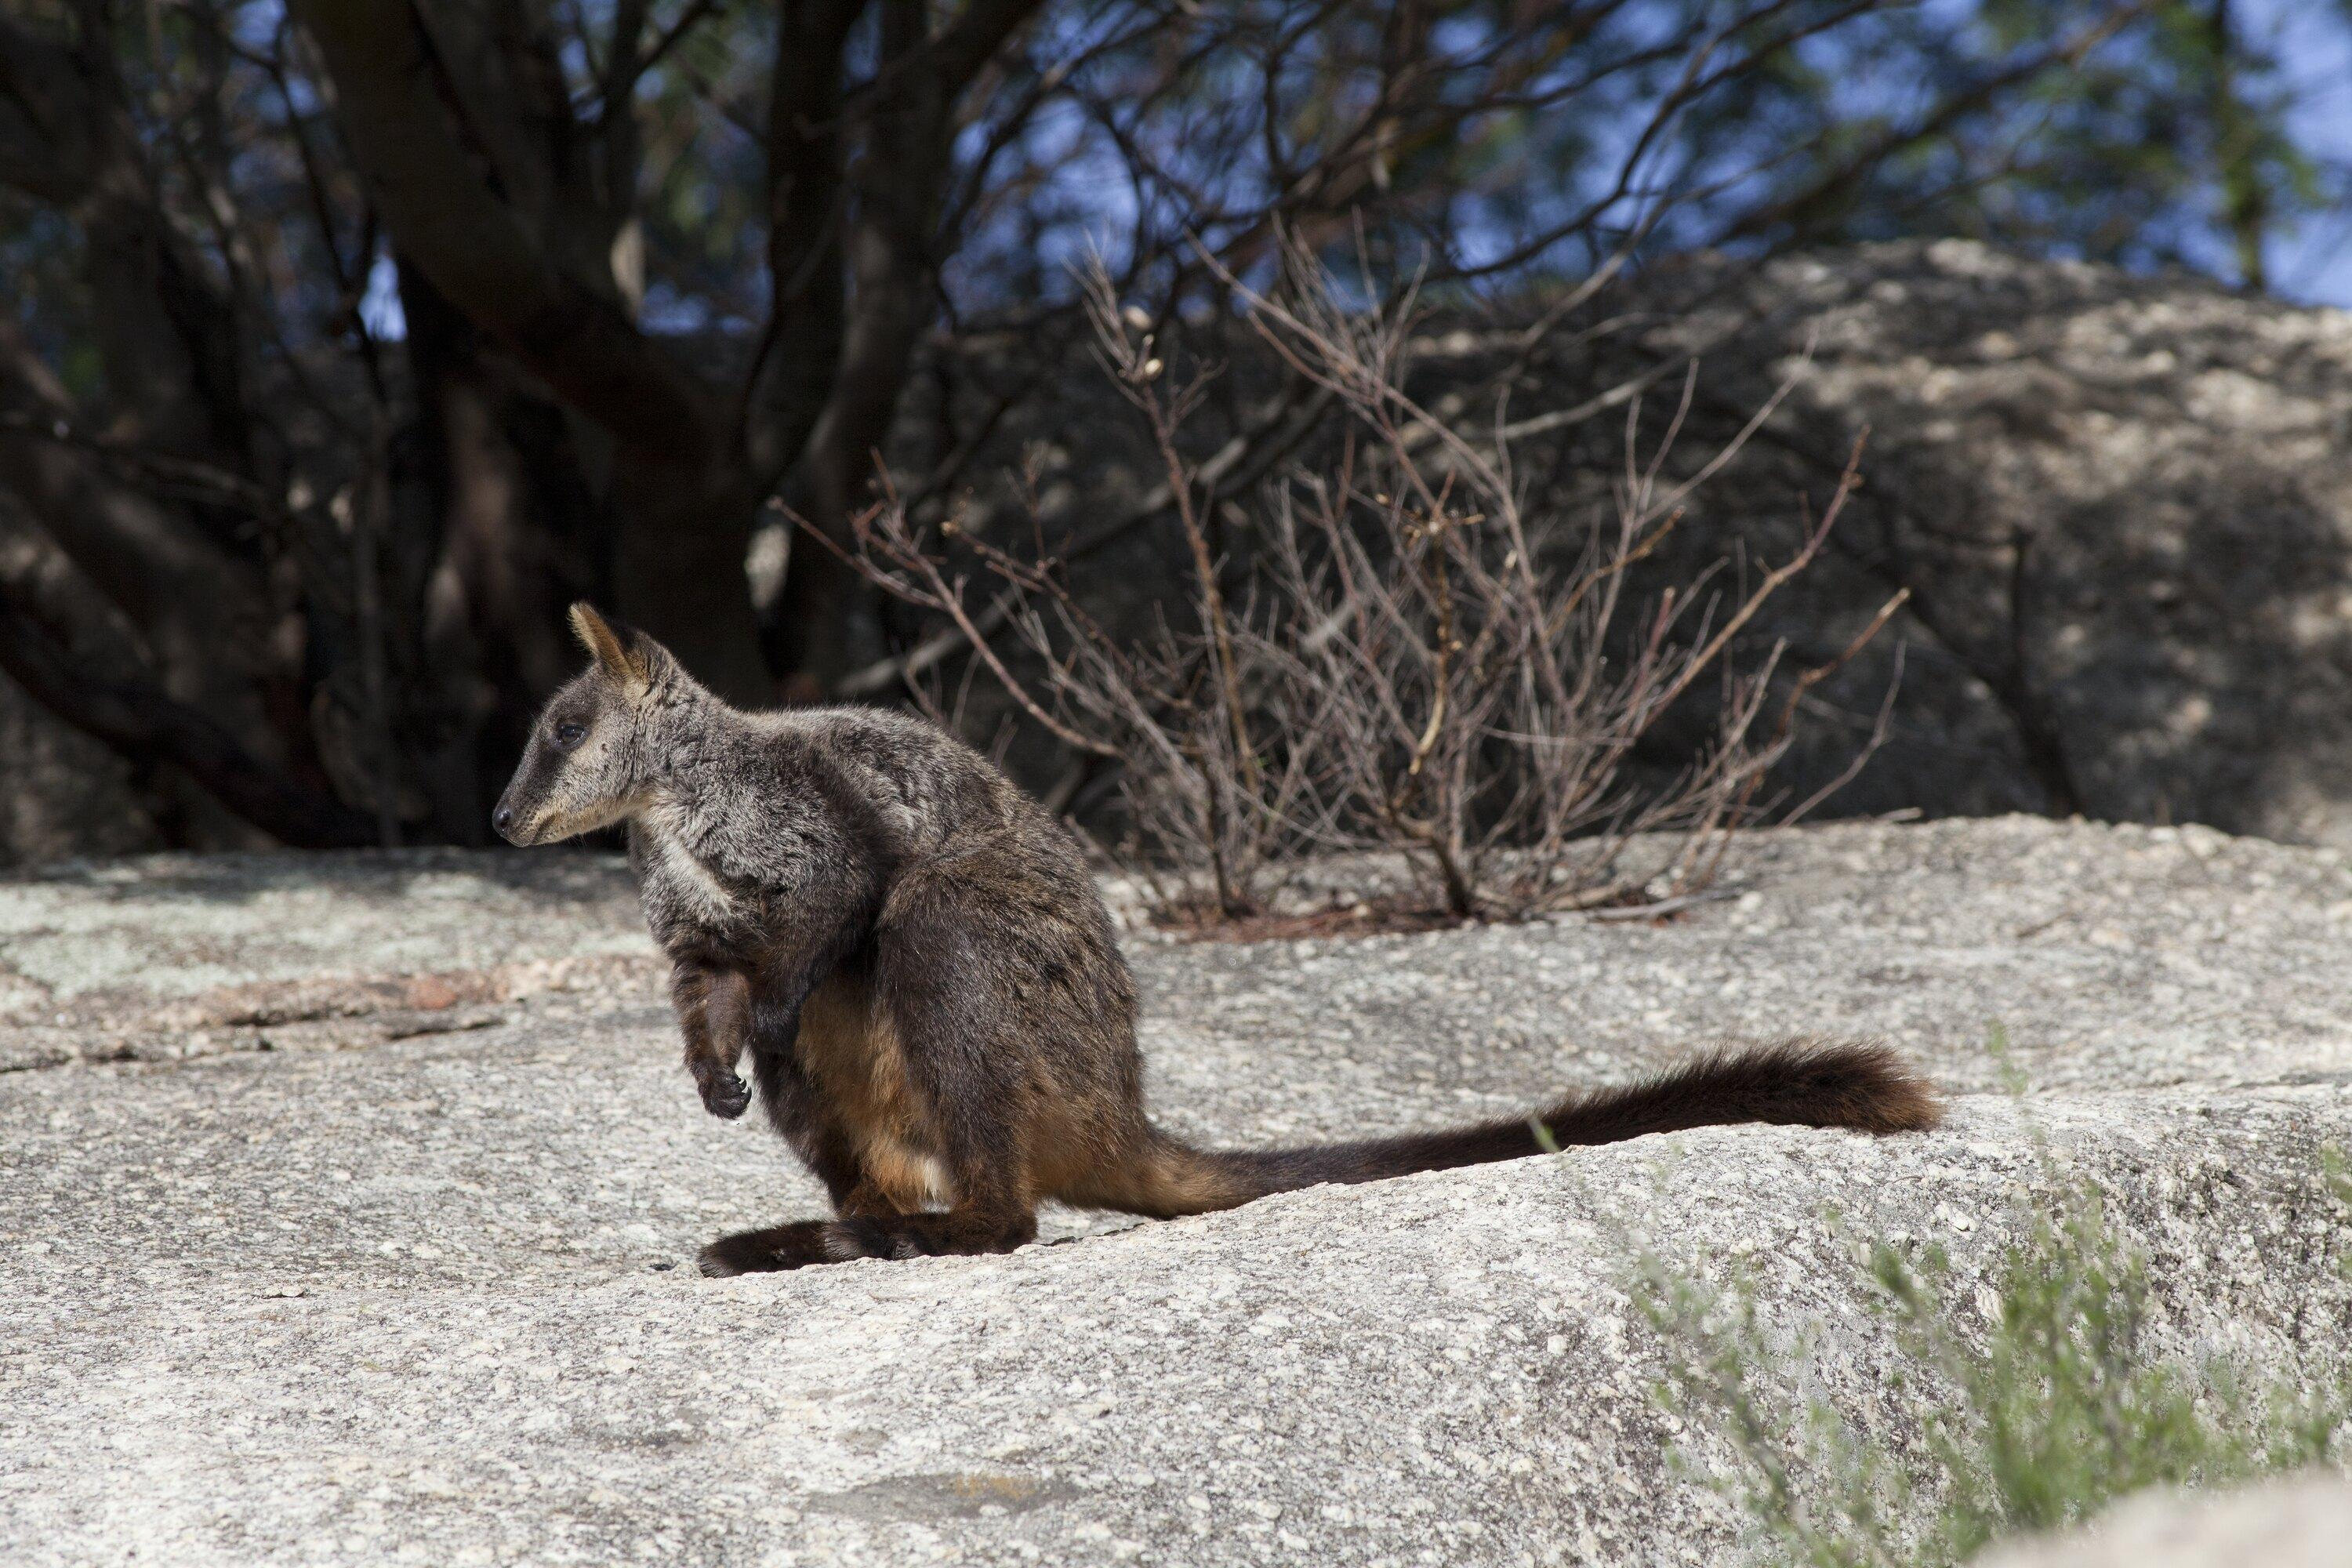Brush-tailed rock-wallaby: (497, 595, 1948, 1276)
